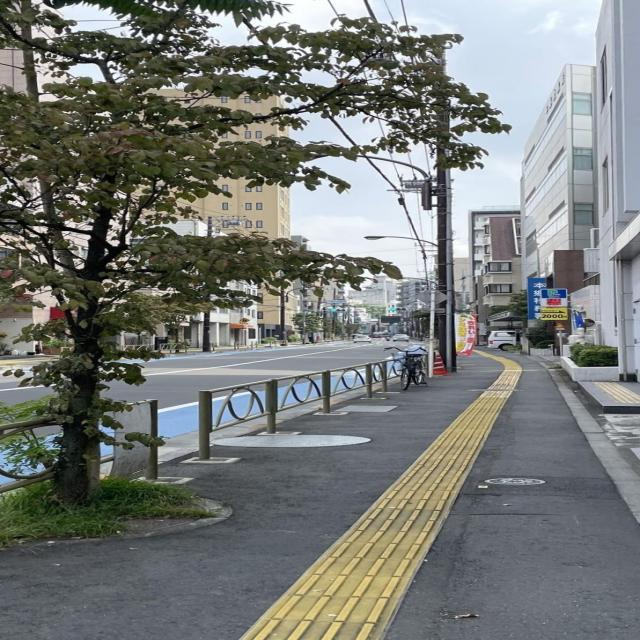dogwood: (0, 0, 513, 512)
